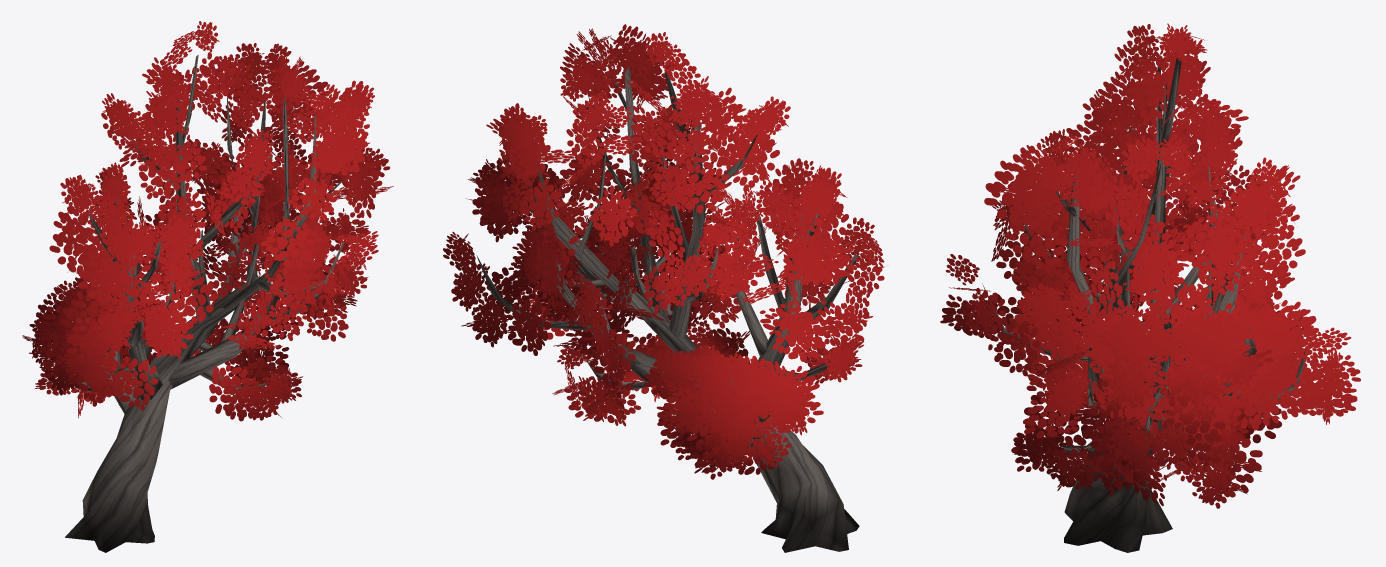
File: TwistedTree_1.gltf
3 views of the same model, side by side, from view 1: azimuth 30°, elevation 25°; view 2: azimuth 150°, elevation 25°; view 3: azimuth 270°, elevation 25° (orthographic). The views are drawn at different scales.
Parts seen in each view (by area): view 1: TwistedTree_1_Foliage, TwistedTree_1_Bark; view 2: TwistedTree_1_Foliage, TwistedTree_1_Bark; view 3: TwistedTree_1_Foliage, TwistedTree_1_Bark.
Part boxes in pixels (x1,y1,x2,y2): TwistedTree_1_Foliage: (22, 21, 393, 421); TwistedTree_1_Bark: (65, 55, 349, 552); TwistedTree_1_Foliage: (443, 24, 884, 479); TwistedTree_1_Bark: (476, 63, 859, 552); TwistedTree_1_Foliage: (940, 23, 1360, 508); TwistedTree_1_Bark: (982, 58, 1305, 552).
Bounding box in the file's own units: 19.39 × 24.01 × 16.57.
Materials: 2 (2 with a texture image).
